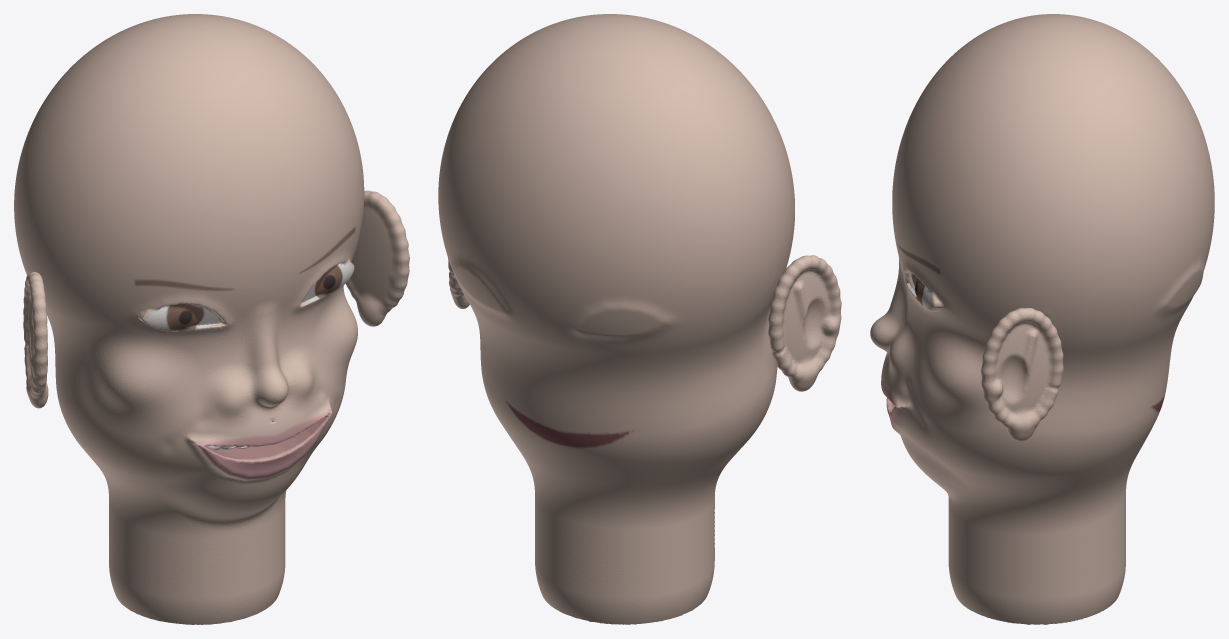
Rendered from karma_face_stage1_R_smile_EXPERIMENT.glb.
The picture shows the model from 3 angles, left to right: view 1: azimuth 30°, elevation 25°; view 2: azimuth 150°, elevation 25°; view 3: azimuth 270°, elevation 25°; orthographic projection.
Parts seen in each view (by area): view 1: head; view 2: head; view 3: head.
Boxes of the visible parts, left/top/right/bottom form: head: left=14, top=14, right=409, bottom=624; head: left=438, top=14, right=841, bottom=624; head: left=870, top=14, right=1214, bottom=624.
Bounding box in the file's own units: 2.7 × 3.83 × 2.14.
